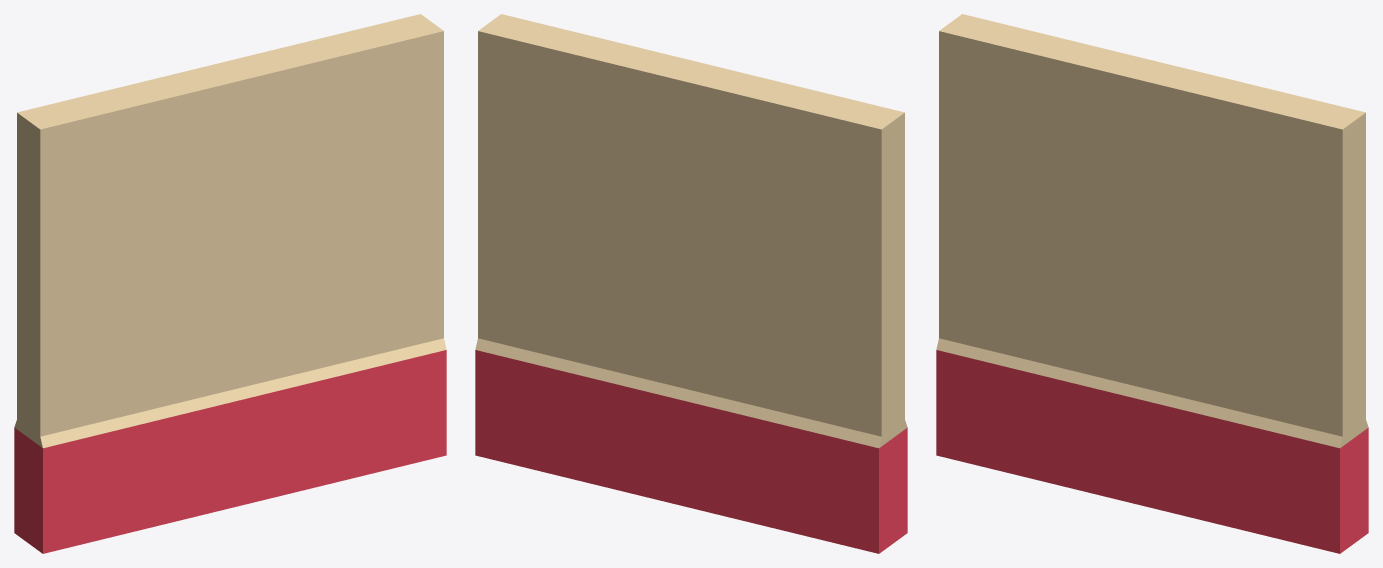
The model's file is Wall1.fbx.
3 renders of one model, left to right at view 1: azimuth 30°, elevation 25°; view 2: azimuth 150°, elevation 25°; view 3: azimuth 330°, elevation 25°, orthographic.
Parts seen in each view (by area): view 1: Wall1; view 2: Wall1; view 3: Wall1.
Part boxes in pixels (<box>): Wall1: <box>14,14,446,553</box>; Wall1: <box>475,14,907,553</box>; Wall1: <box>936,14,1368,553</box>.
Bounding box in the file's own units: 400 × 400 × 49.08.
